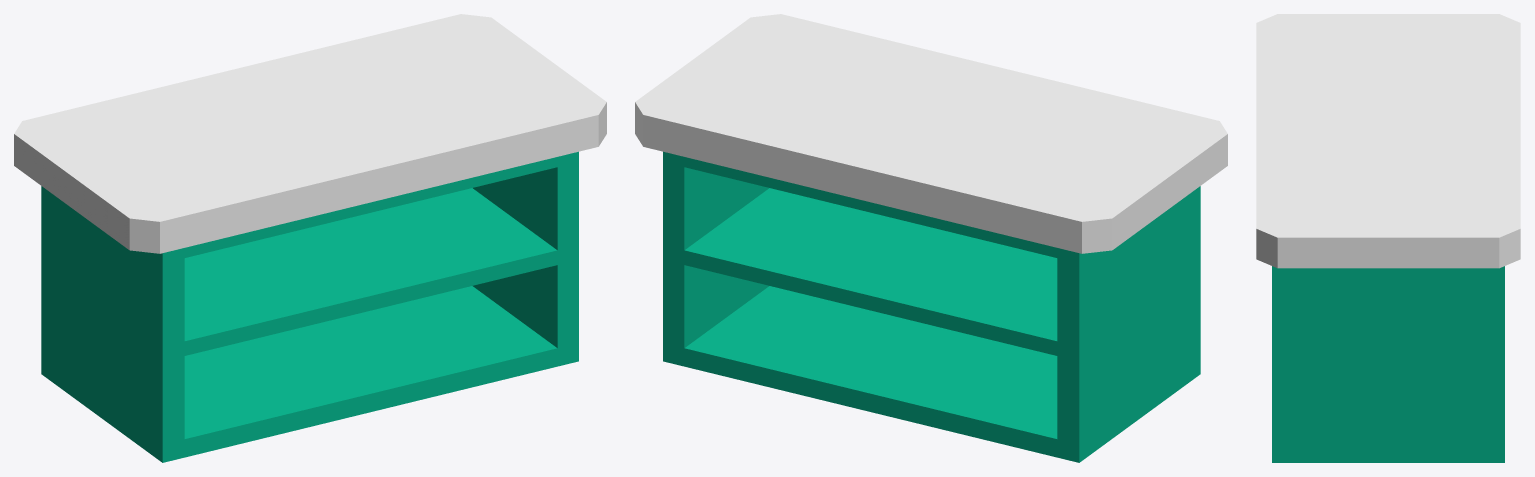
File: island.fbx
3 renders of one model, left to right at view 1: azimuth 30°, elevation 25°; view 2: azimuth 150°, elevation 25°; view 3: azimuth 270°, elevation 25°, orthographic. The views are drawn at different scales.
Visible parts, largest first — view 1: island; view 2: island; view 3: island.
Boxes of the visible parts, x1=… form: island: x1=14, y1=14, x2=606, y2=462; island: x1=635, y1=14, x2=1227, y2=462; island: x1=1256, y1=14, x2=1520, y2=462.
Size of the model in its own units: 400 by 200 by 200.
